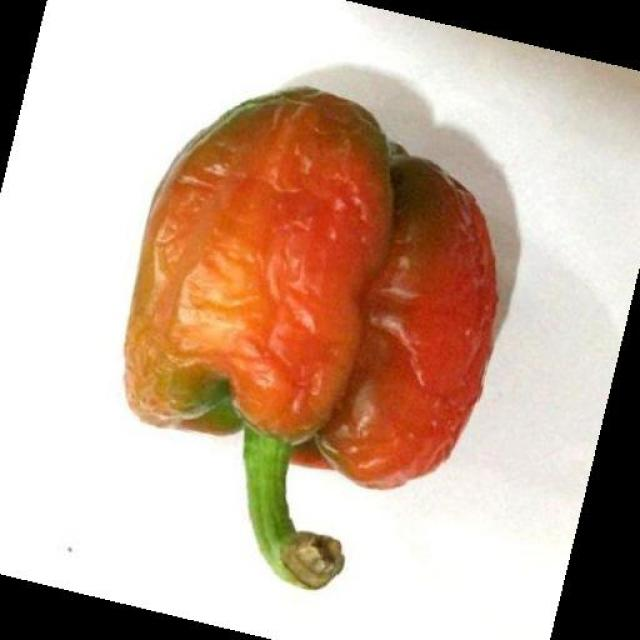Stale_Capsicum: (96, 67, 512, 557)
